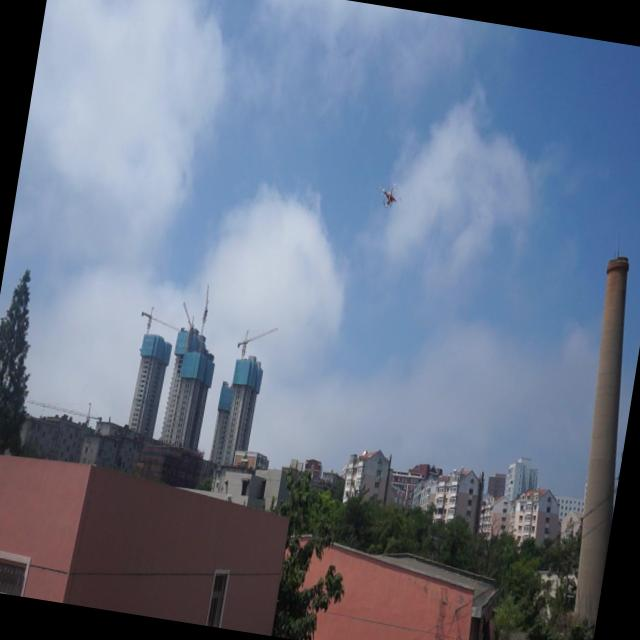drone: (379, 182, 402, 212)
